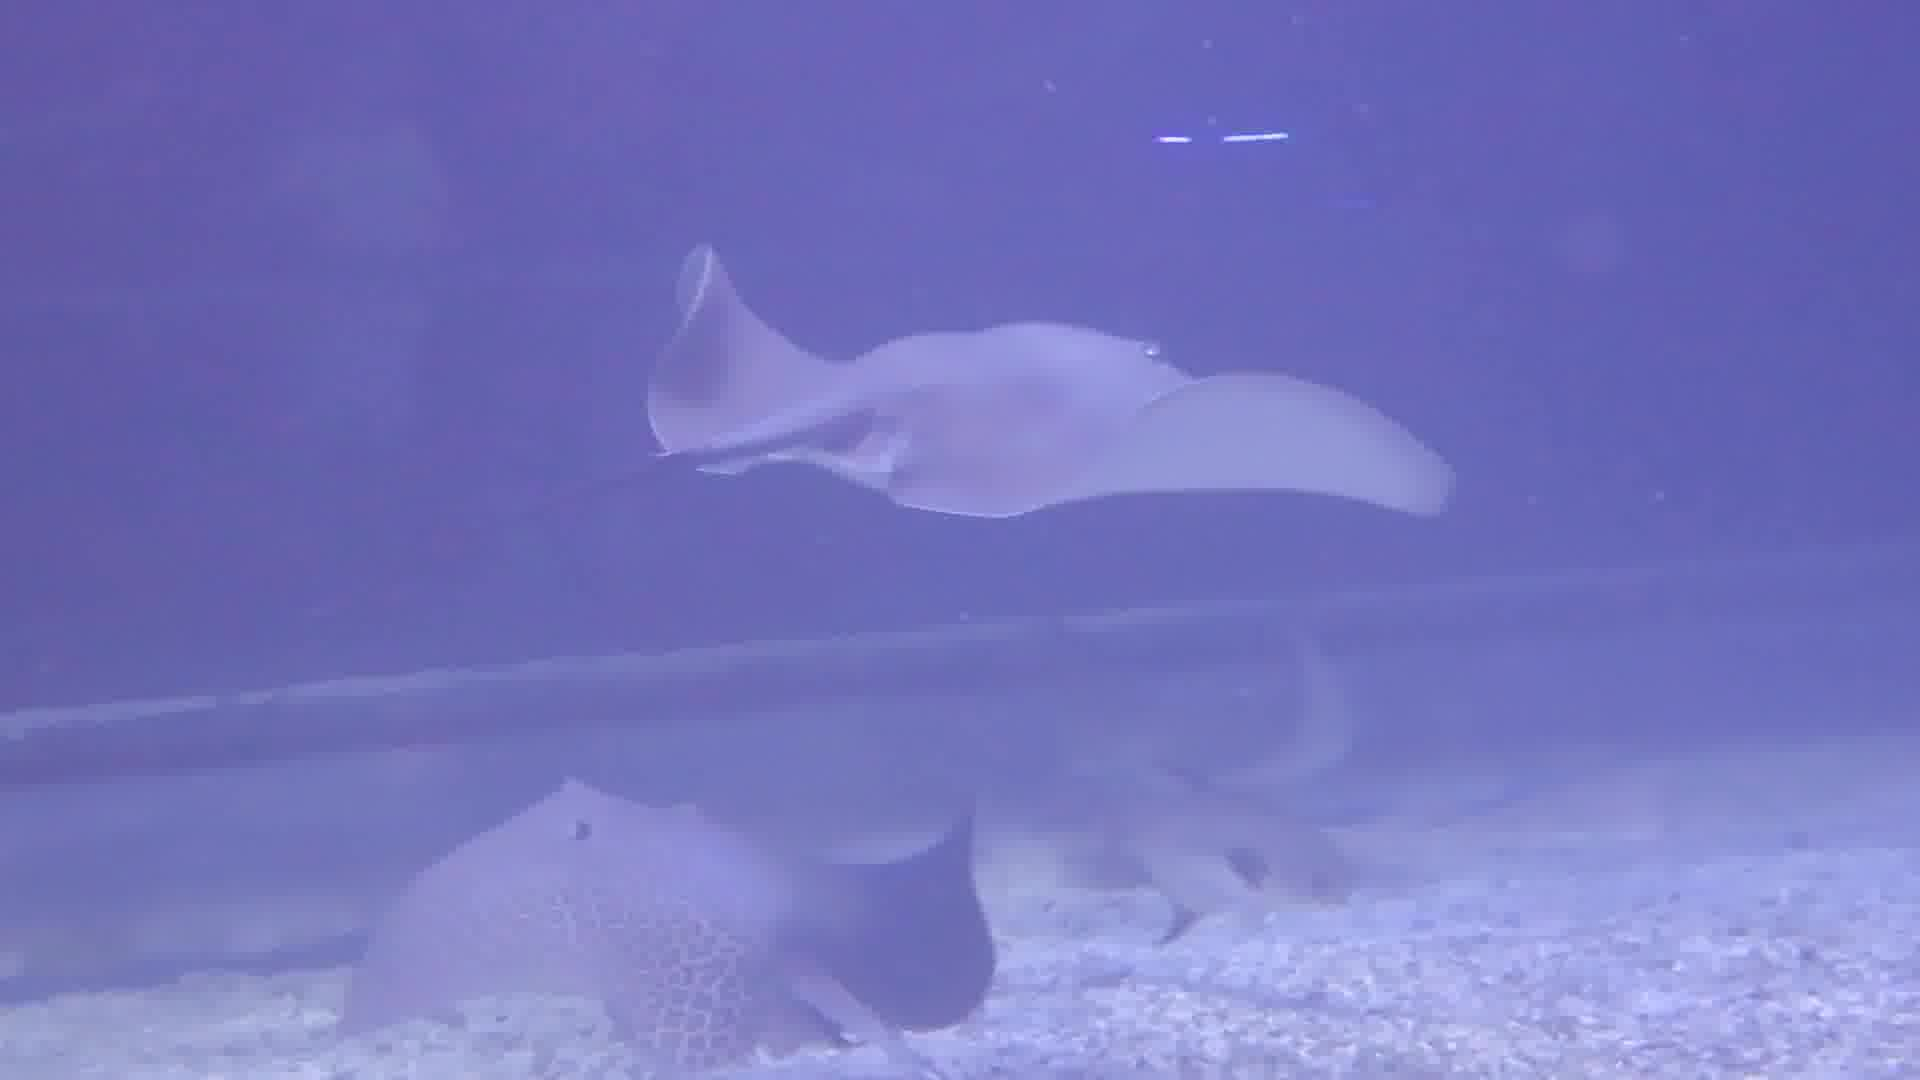Dasyatis akajei: (475, 187, 1485, 658)
